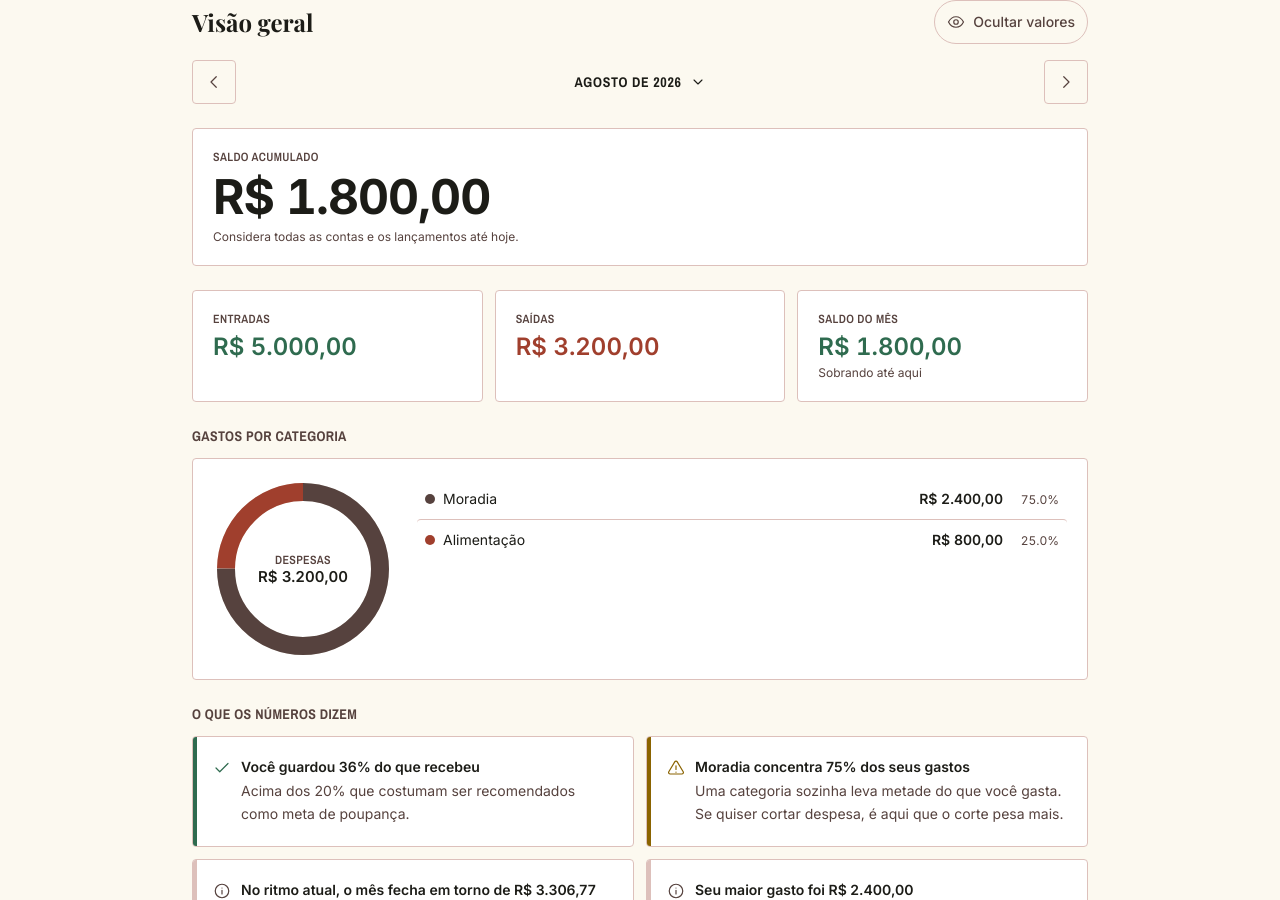
Test case: navegação entre meses (FR-012) › o seletor de período leva de volta ao mês atual em um clique
The width and height of the screenshot is (1280, 900).
Expected: the heading "Visão geral" is shown, [192, 6, 314, 38]
What coordinates should you click on to do the following:
click the button named "Mês anterior"
I would click on:
 (214, 82)
Its box is [192, 60, 236, 104].
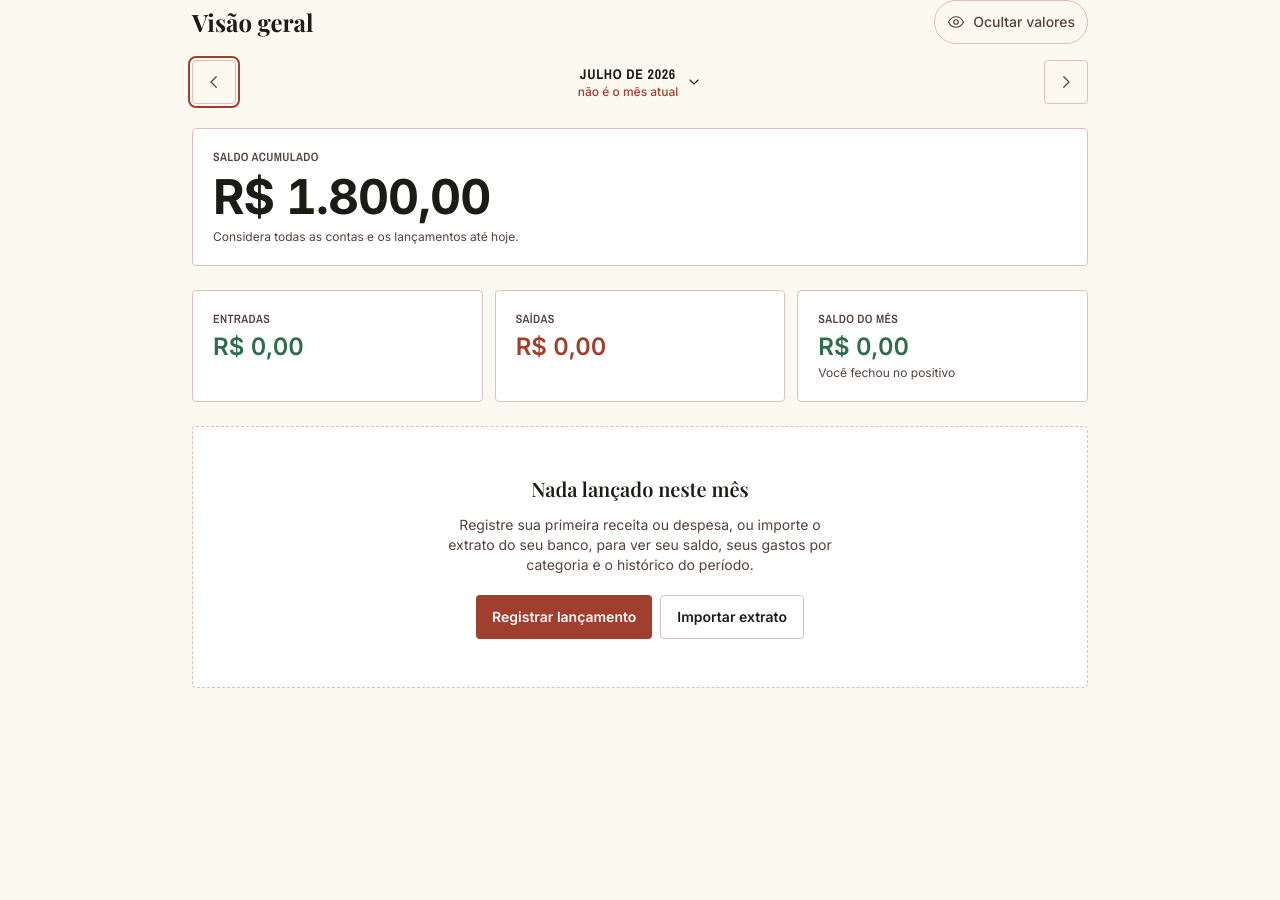
Expected: the text "não é o mês atual" is shown, [578, 84, 678, 100]
Note: Abre o seletor e usa o atalho.
What coordinates should you click on to do the following:
click the button "Julho de 2026 não é o mês atual"
I would click on:
 (640, 82)
Its box is [244, 60, 1036, 104].
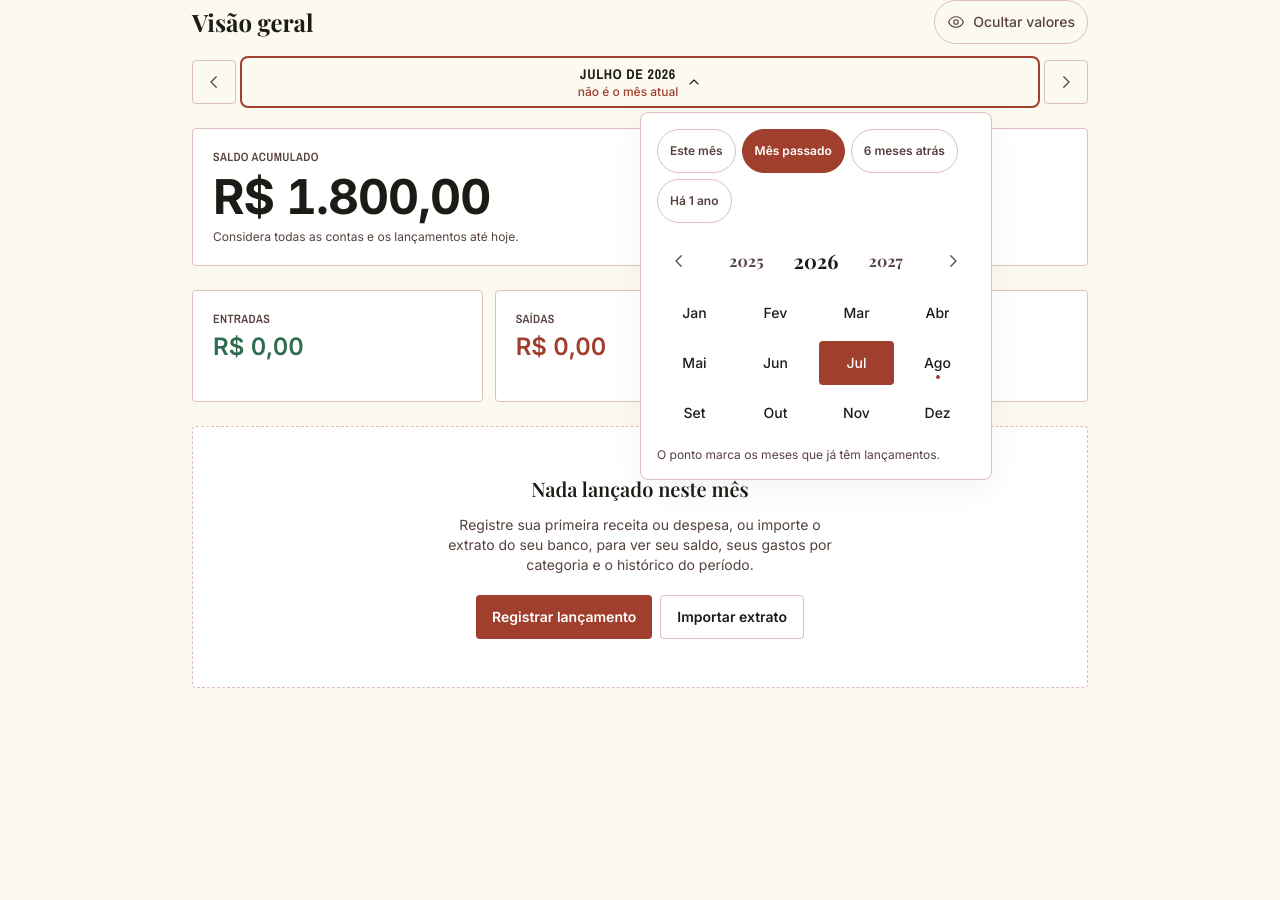
What coordinates should you click on to do the following:
click the button "Este mês"
I would click on:
 (696, 151)
Its box is [657, 129, 736, 173].
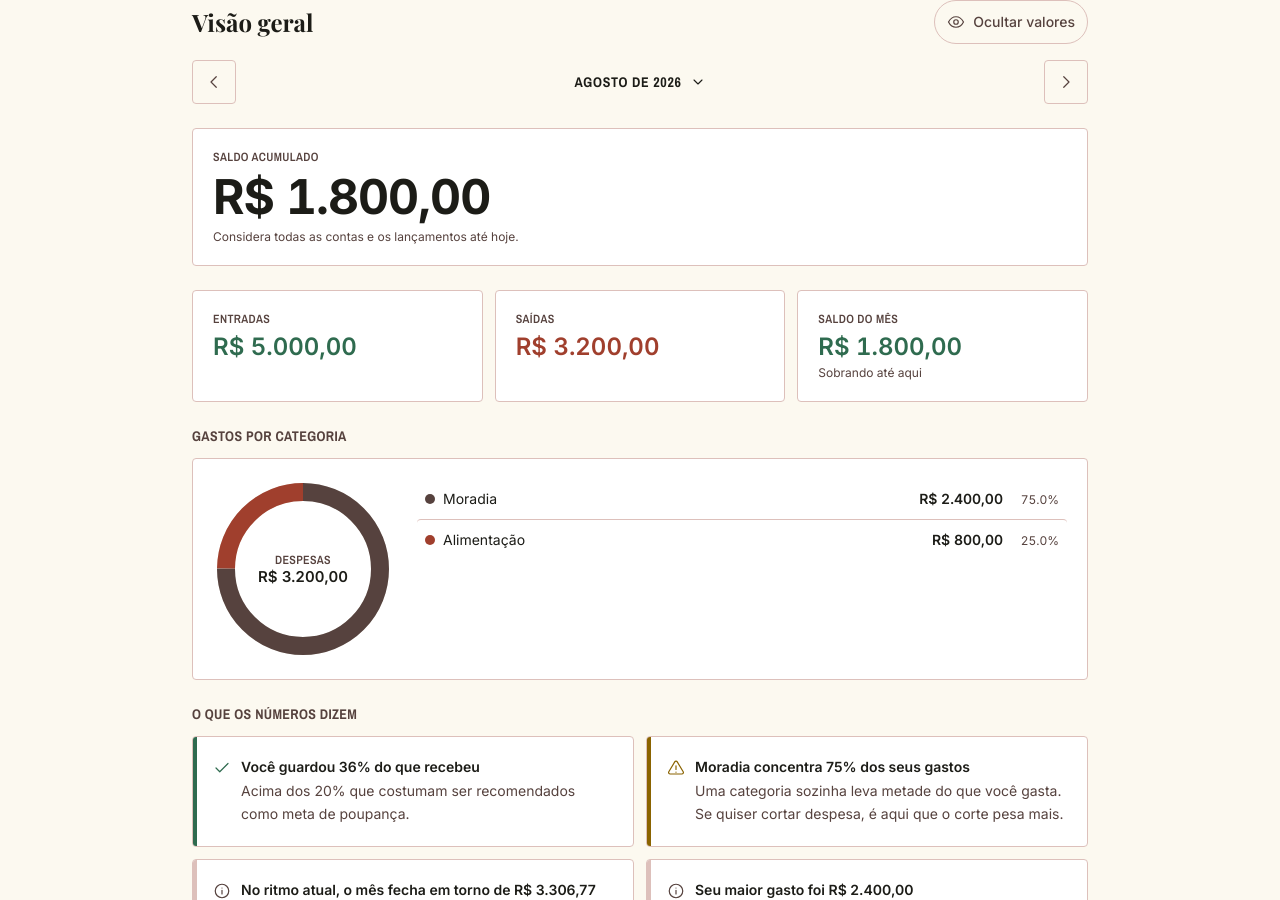
Expected: the text "Agosto de 2026" is shown, [574, 72, 682, 92]
